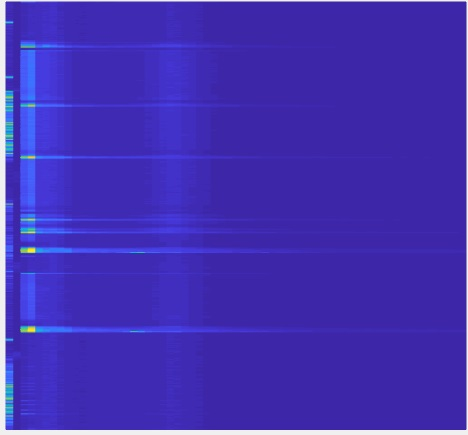leak: (15, 51, 243, 94), (17, 111, 235, 154), (13, 270, 76, 323), (11, 162, 56, 201)
